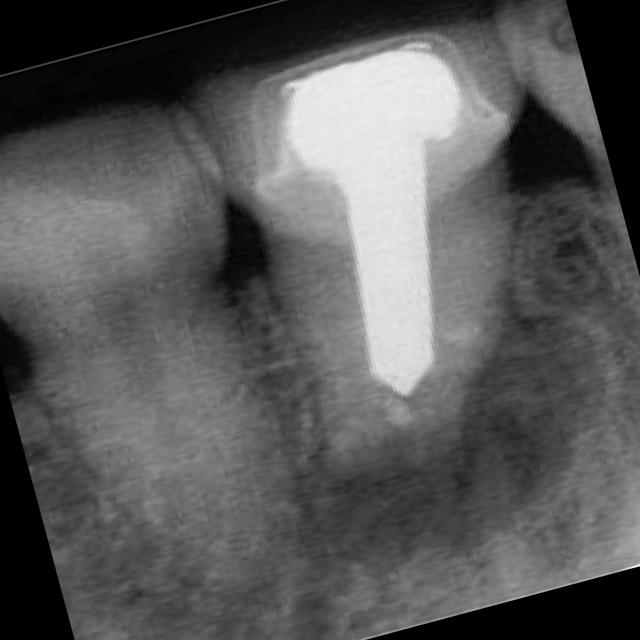Abcess: (302, 321, 596, 564)
Crown: (261, 31, 473, 197)
Post: (333, 143, 435, 395)
